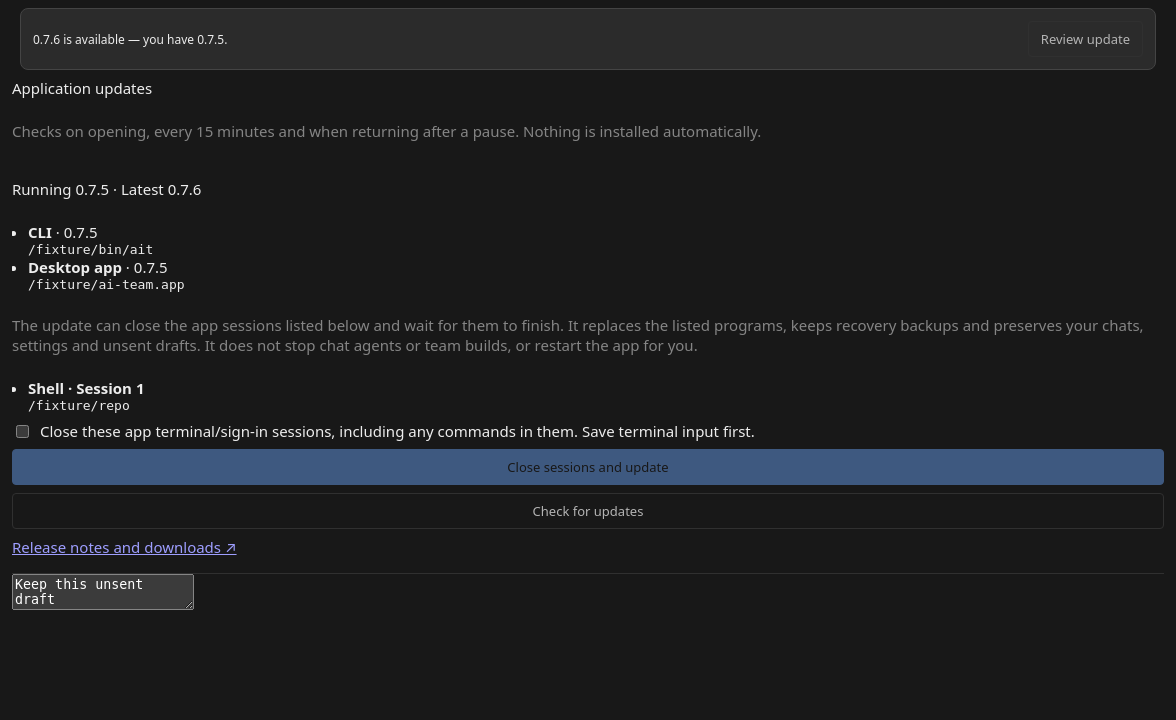
Test case: requires fresh closure approval when the app session set changes
Click the checkbox labelled "Close these app terminal": (22, 431) [16,424,29,438]
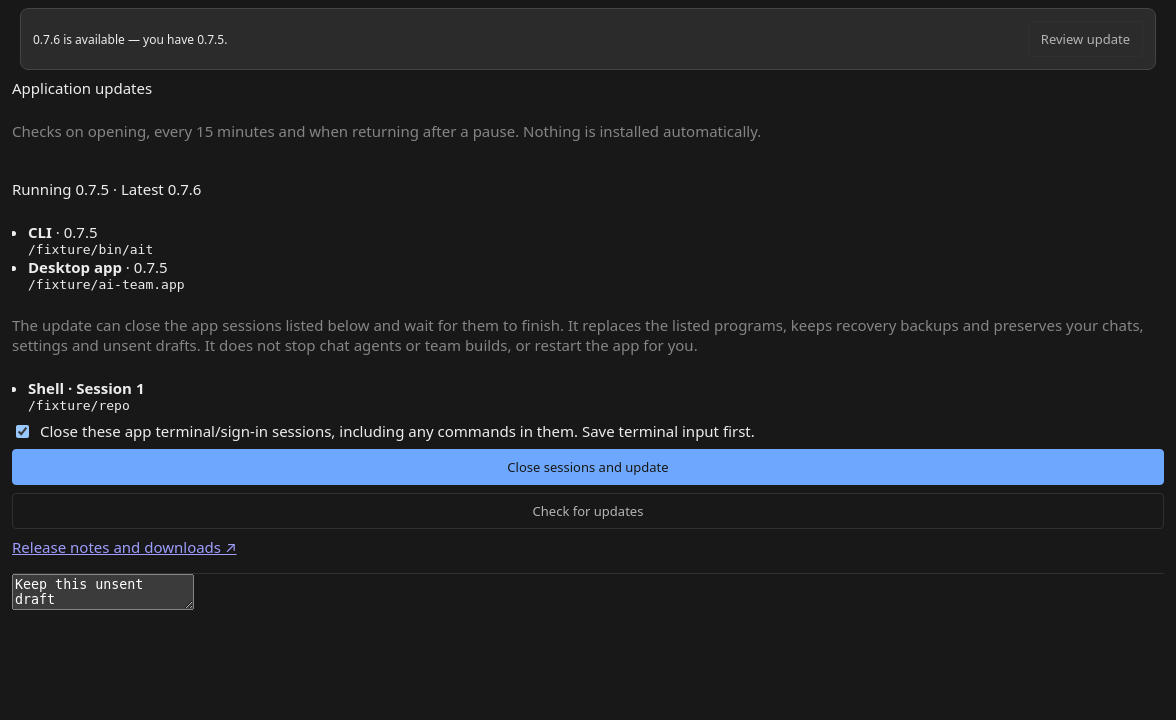
Click the button "Check for updates": (588, 511) [12,493,1164,529]
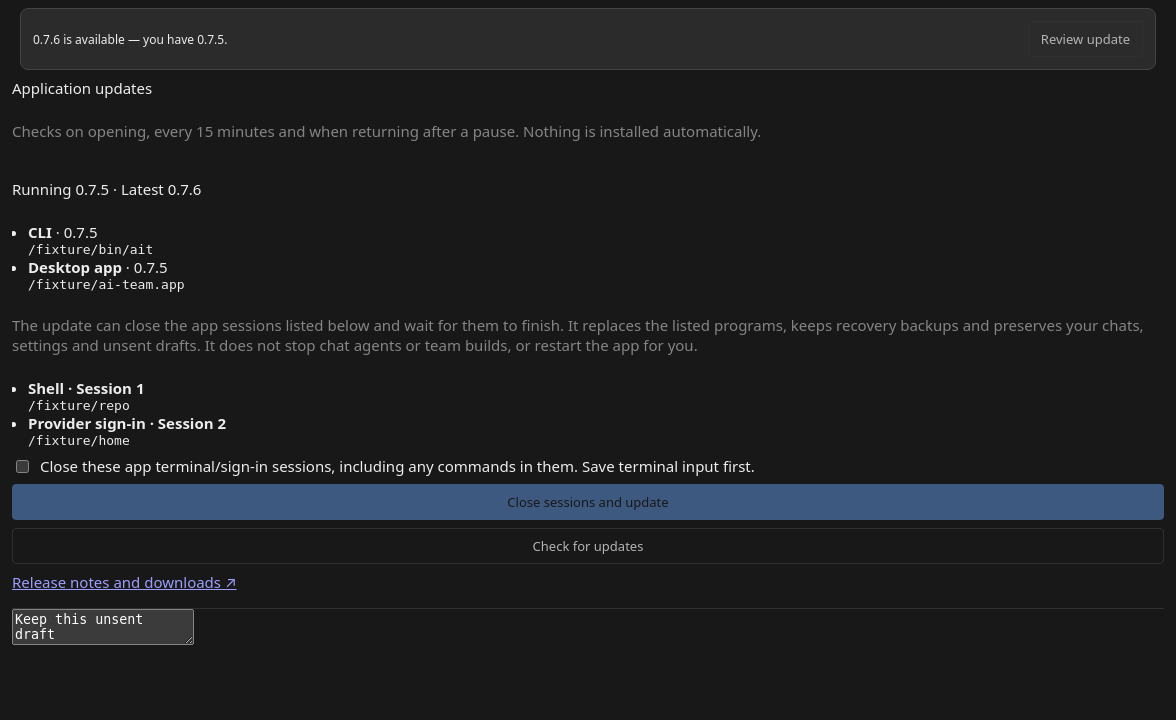
Expected: the checkbox labelled "Close these app terminal" is not checked, [16,460,29,472]
Expected: the text "/fixture/home" is shown, [28,433,130,448]
Expected: the button "Close sessions and update" is disabled, [12,484,1164,520]
